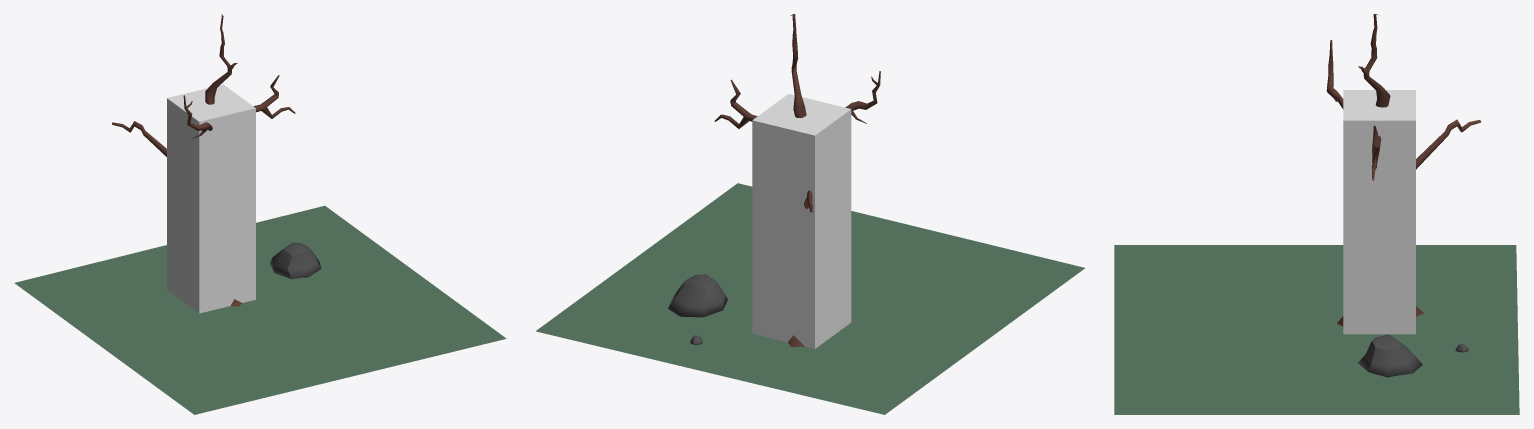
File: pussel1_2.fbx
3 views of the same model, side by side, from view 1: azimuth 30°, elevation 25°; view 2: azimuth 150°, elevation 25°; view 3: azimuth 270°, elevation 25° (orthographic). The views are drawn at different scales.
Visible parts, largest first — view 1: ground, treecollide, tree, stone1; view 2: ground, treecollide, stone1, tree; view 3: ground, treecollide, tree, stone1.
Boxes of the visible parts, x1,y1,x2,y2 form: ground: (14,205,506,414); treecollide: (167,84,255,313); tree: (112,14,295,306); stone1: (270,242,321,279); ground: (536,183,1084,414); treecollide: (752,94,851,348); stone1: (668,274,727,317); tree: (714,14,880,347); ground: (1114,245,1519,414); treecollide: (1343,90,1415,334); tree: (1326,14,1480,326); stone1: (1358,334,1422,377).
Size of the model in its own units: 25 by 21.56 by 25.21.
